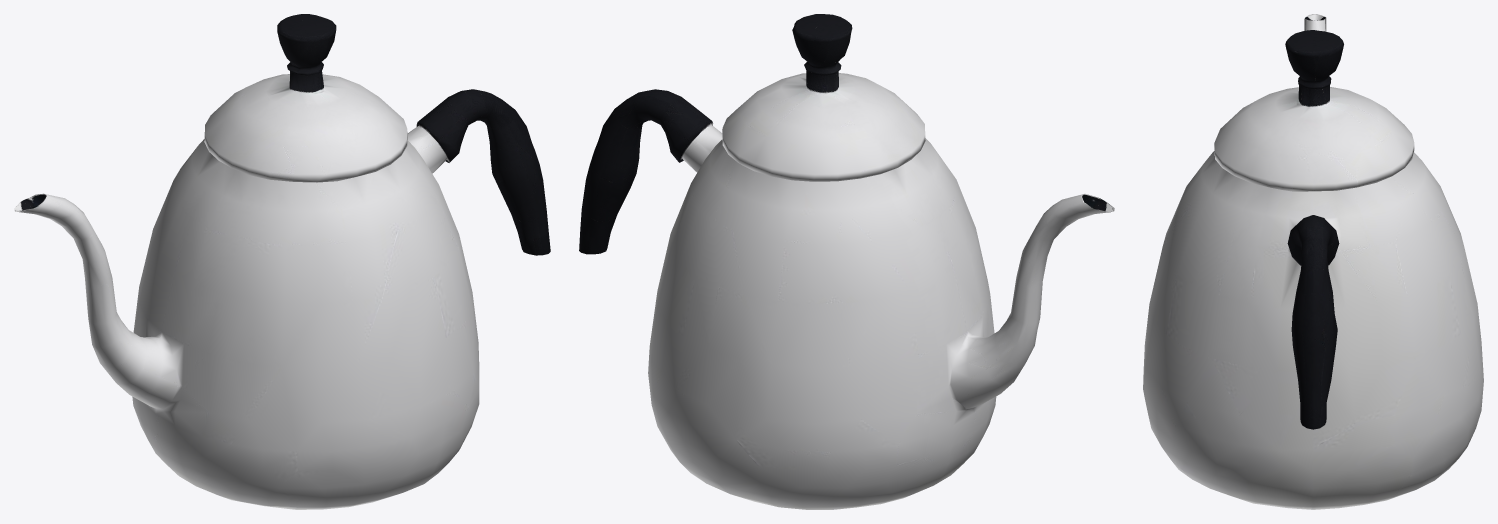
The model's file is drip-kettle.glb.
The picture shows the model from 3 angles, left to right: view 1: azimuth 30°, elevation 25°; view 2: azimuth 150°, elevation 25°; view 3: azimuth 270°, elevation 25°; orthographic projection. The views are drawn at different scales.
Size of the model in its own units: 0.9575 by 0.7354 by 0.5454.
Materials: 1 (1 with a texture image).
